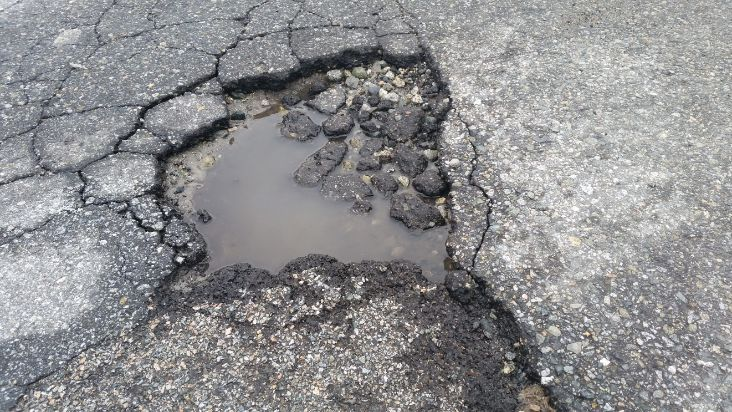pothole: (128, 40, 468, 308)
